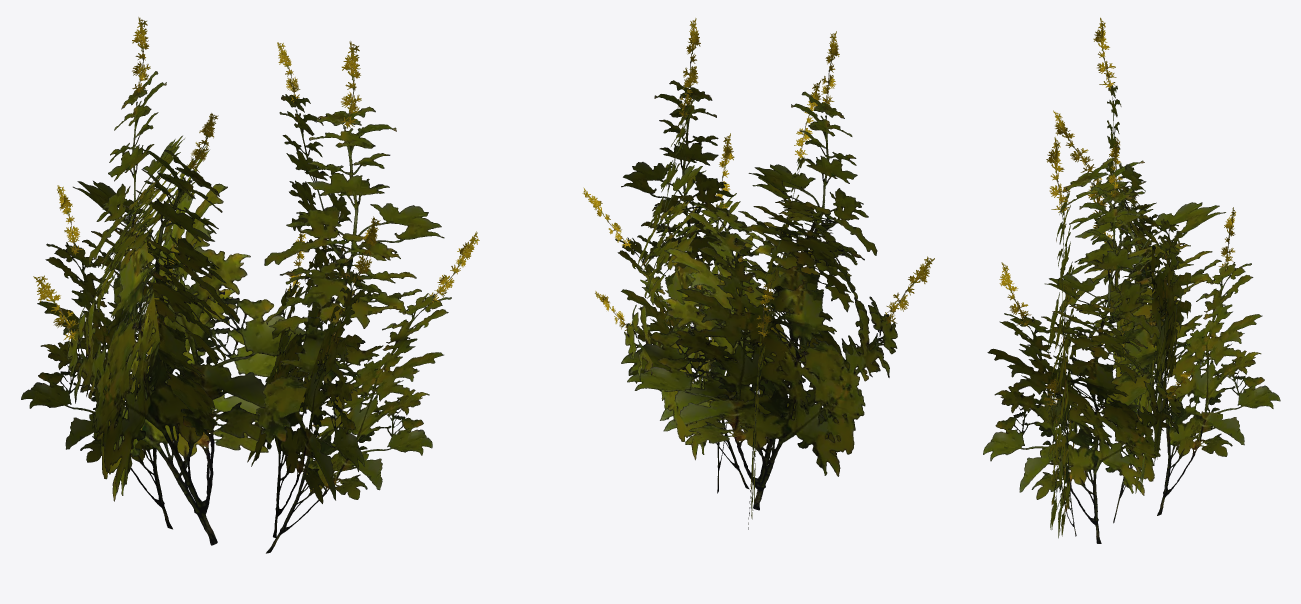
File: KM_VOB_FLOWERS_05.glb
3 views of the same model, side by side, from view 1: azimuth 30°, elevation 25°; view 2: azimuth 150°, elevation 25°; view 3: azimuth 270°, elevation 25° (orthographic). The views are drawn at different scales.
Parts seen in each view (by area): view 1: Mesh; view 2: Mesh; view 3: Mesh.
Boxes of the visible parts, <box> form: Mesh: <box>21,17,479,553</box>; Mesh: <box>582,18,934,529</box>; Mesh: <box>983,17,1280,543</box>.
Bounding box in the file's own units: 5.1 × 5.87 × 3.49.
3 materials, 3 textured.
